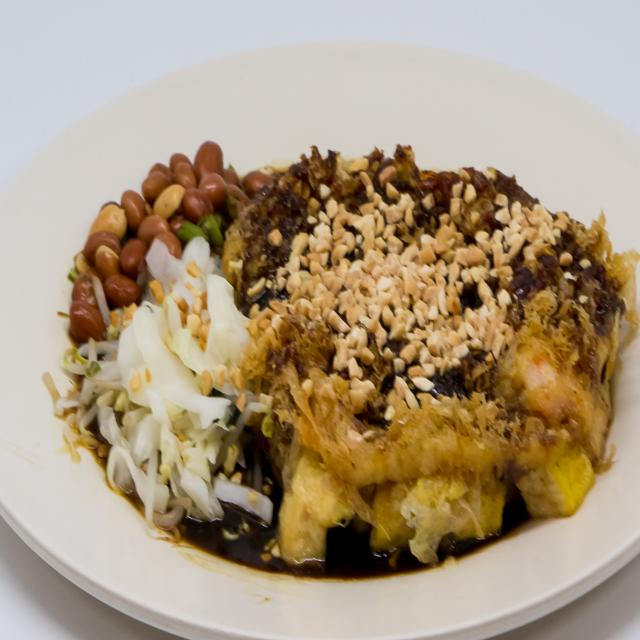Tahu-Telur: (37, 82, 624, 575)
